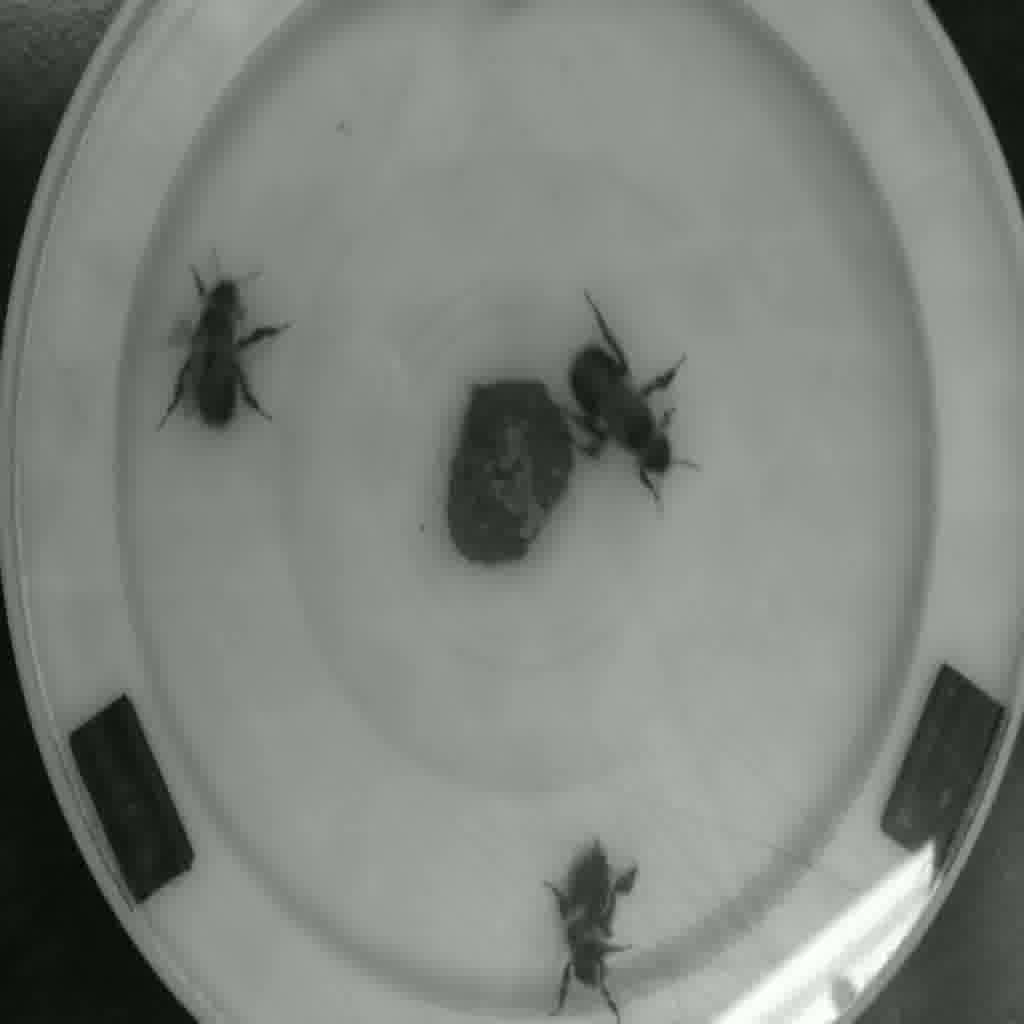bee: (546, 312, 695, 484), (157, 252, 284, 447), (533, 850, 651, 1007)
